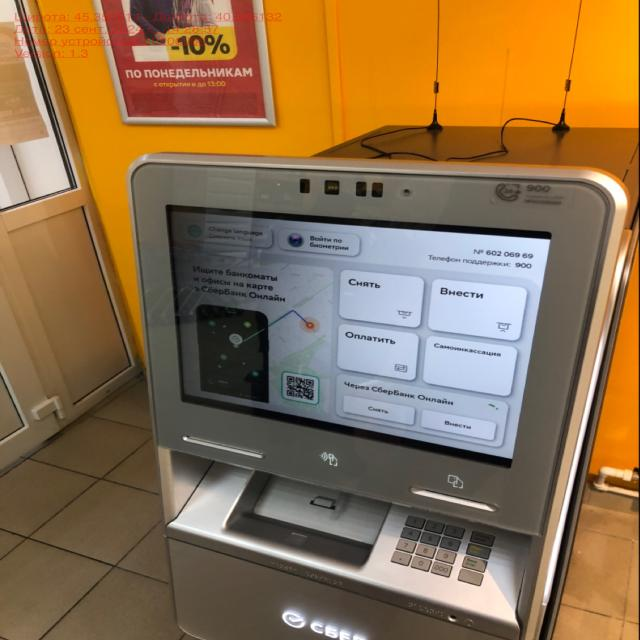bank: (129, 121, 640, 640)
